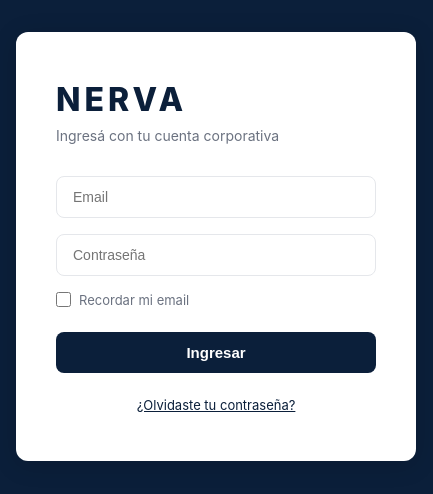
Login › muestra un error y no navega cuando signIn falla
Type "user@nerva.test" into the field with placeholder "Email" at [216, 196], box [56,176,376,218]
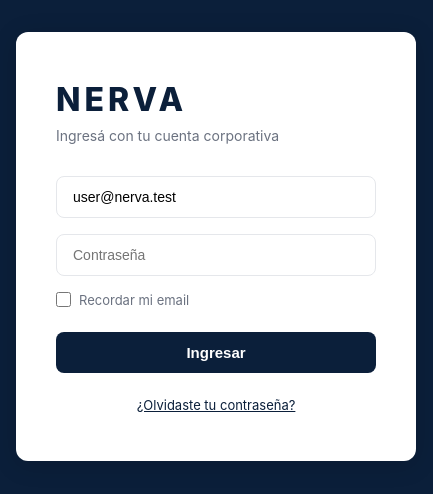
Type "mala" into the password field with placeholder "Contraseña" at [216, 254], box [56,234,376,276]
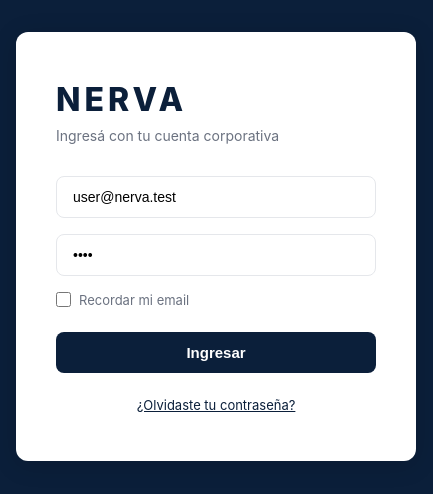
Click the button "Ingresar" at [216, 352], box [56,332,376,372]
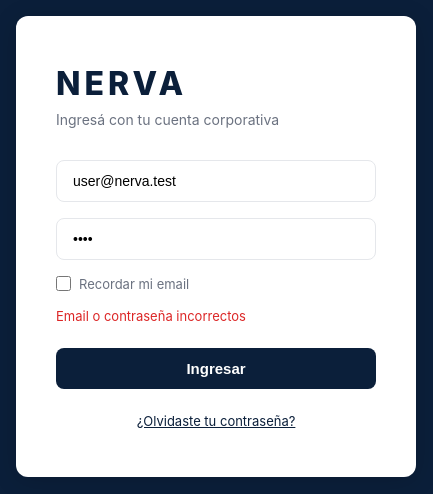
Check: the text "Email o contraseña incorrectos" is shown, box [56,308,246,324]
